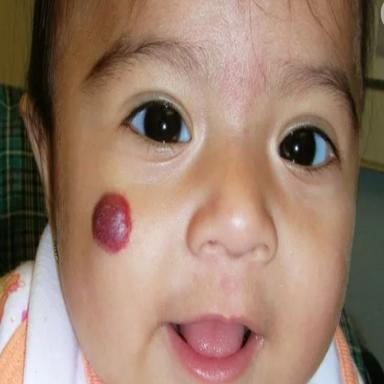Hemangiome: (92, 194, 130, 251)
